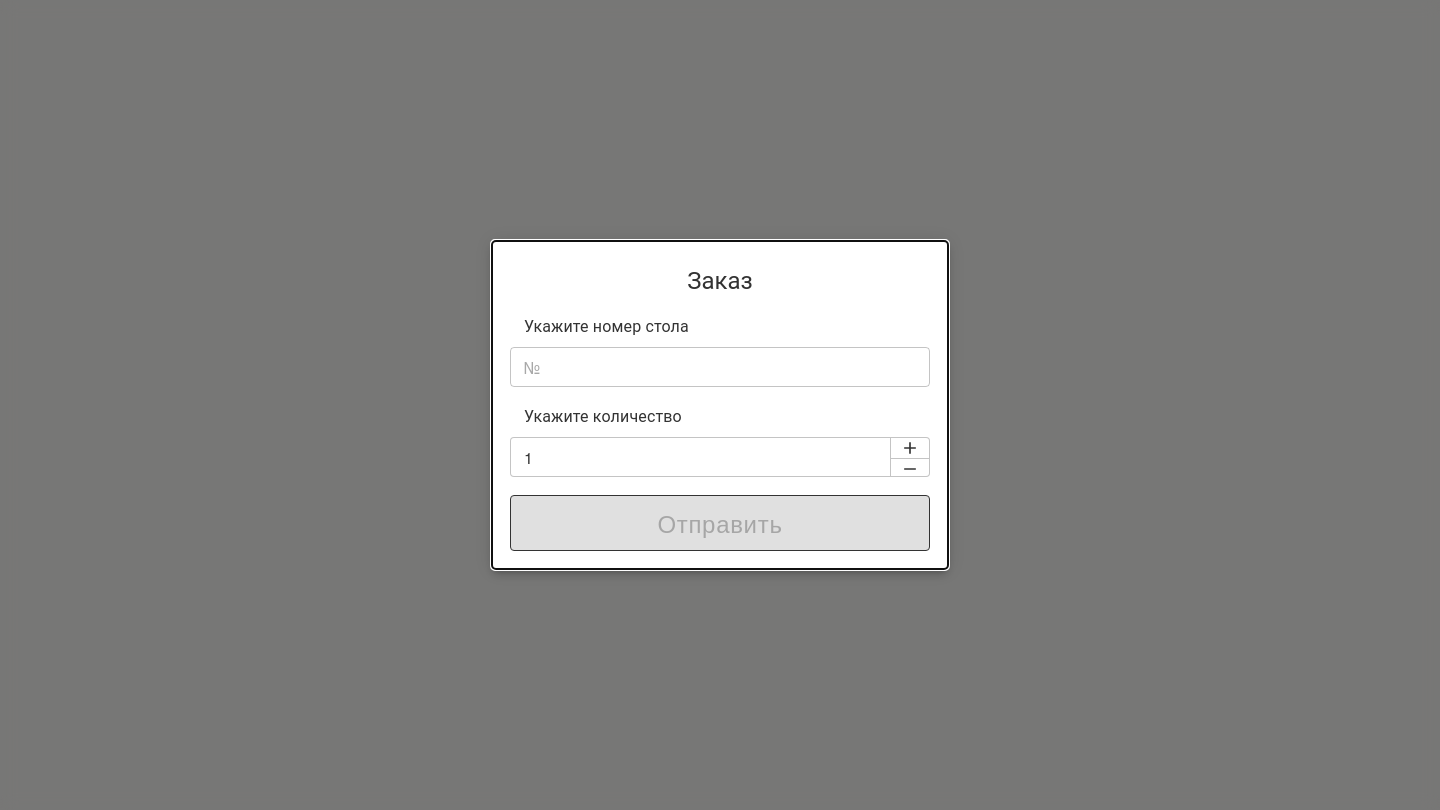
OrderModal › ручной ввод количества > 10 на blur приводит к 10 и показывает ошибку про максимум
The width and height of the screenshot is (1440, 810).
Replace the text in the 2nd field with "999": (700, 457) top-left (510, 437), bottom-right (890, 477)
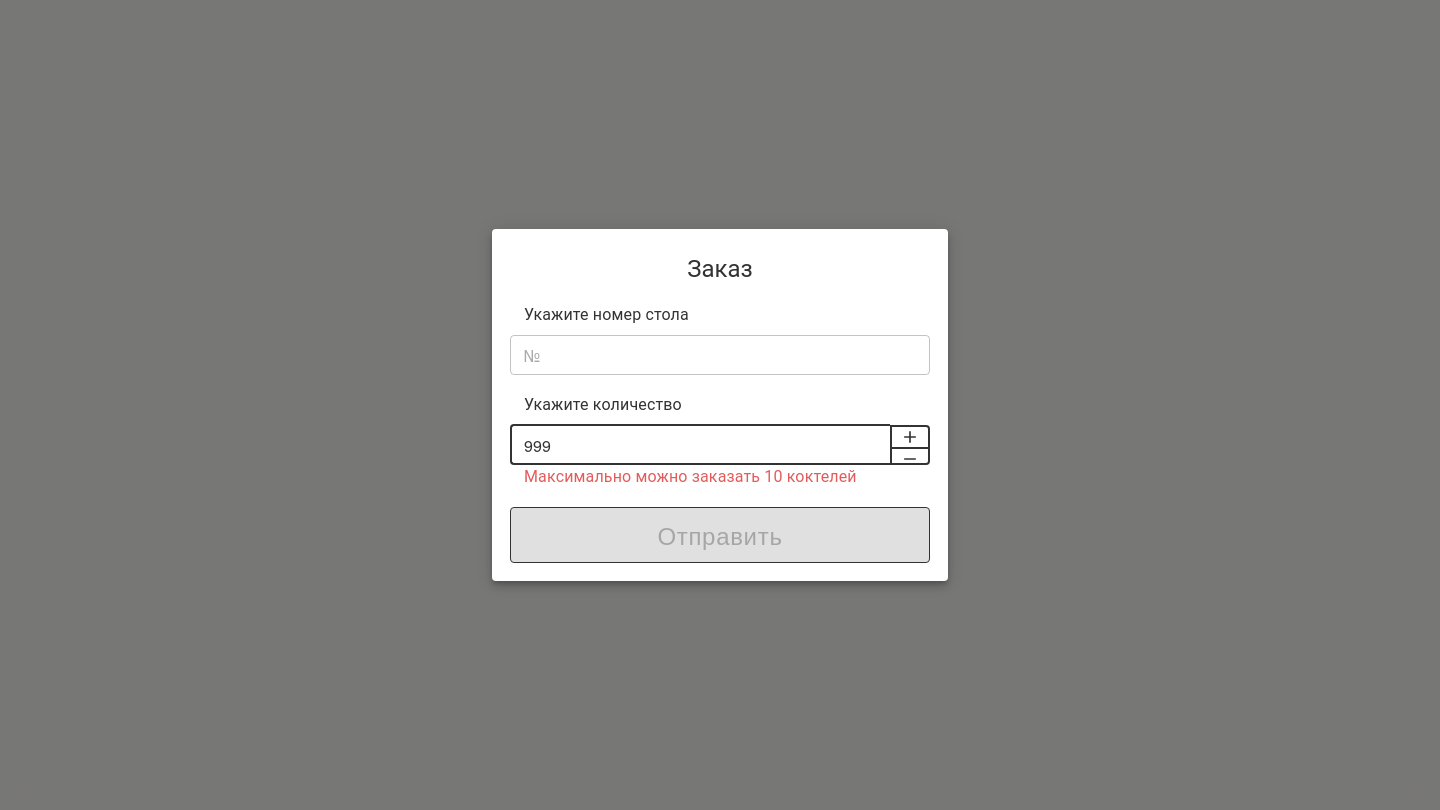
Press Tab
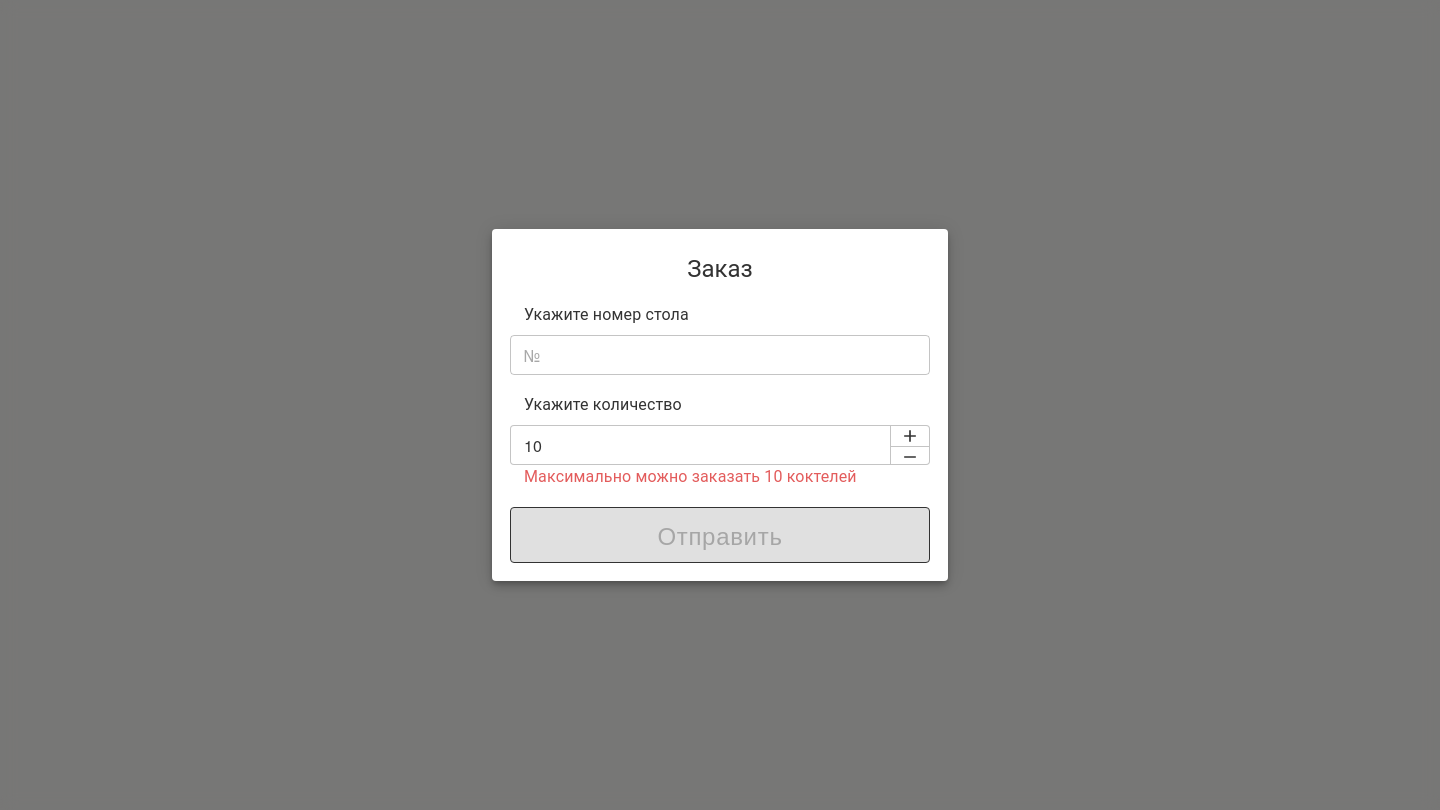
Now the message reads "Максимально можно заказать 10 коктелей", box top-left (524, 467), bottom-right (857, 486)
Now the 2nd field holds "10", box top-left (510, 425), bottom-right (890, 465)
